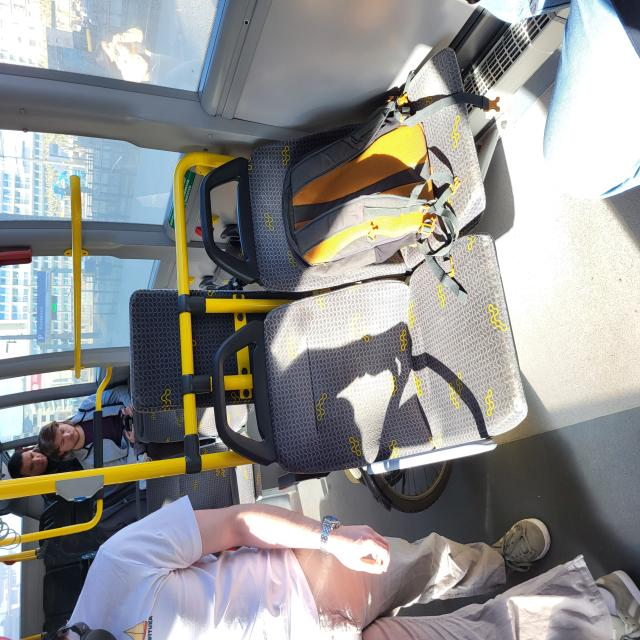asiento-libre: (126, 284, 305, 640)
